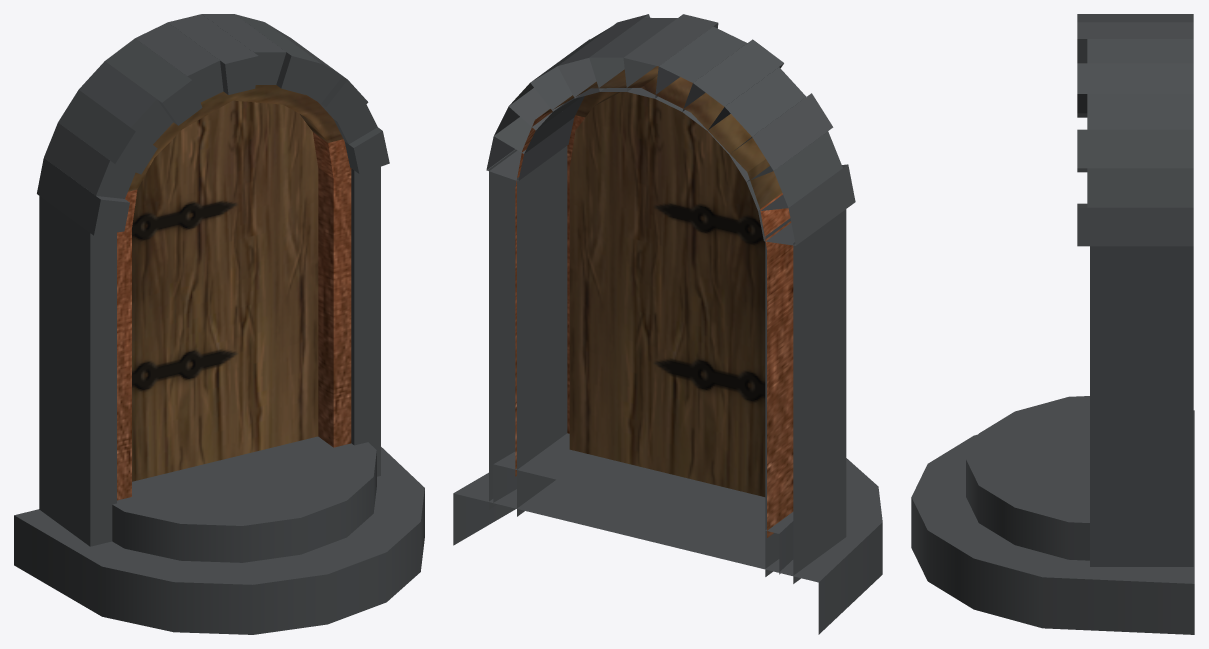
The model's file is fanasty_mod_door02.fbx.
3 views of the same model, side by side, from view 1: azimuth 30°, elevation 25°; view 2: azimuth 150°, elevation 25°; view 3: azimuth 270°, elevation 25° (orthographic). The views are drawn at different scales.
Visible parts, largest first — view 1: door02; view 2: door02; view 3: door02.
Part boxes in pixels (x1,y1,x2,y2): door02: (14, 14, 424, 634); door02: (453, 14, 882, 634); door02: (911, 14, 1194, 634).
Size of the model in its own units: 2.07 by 2.87 by 1.43.
